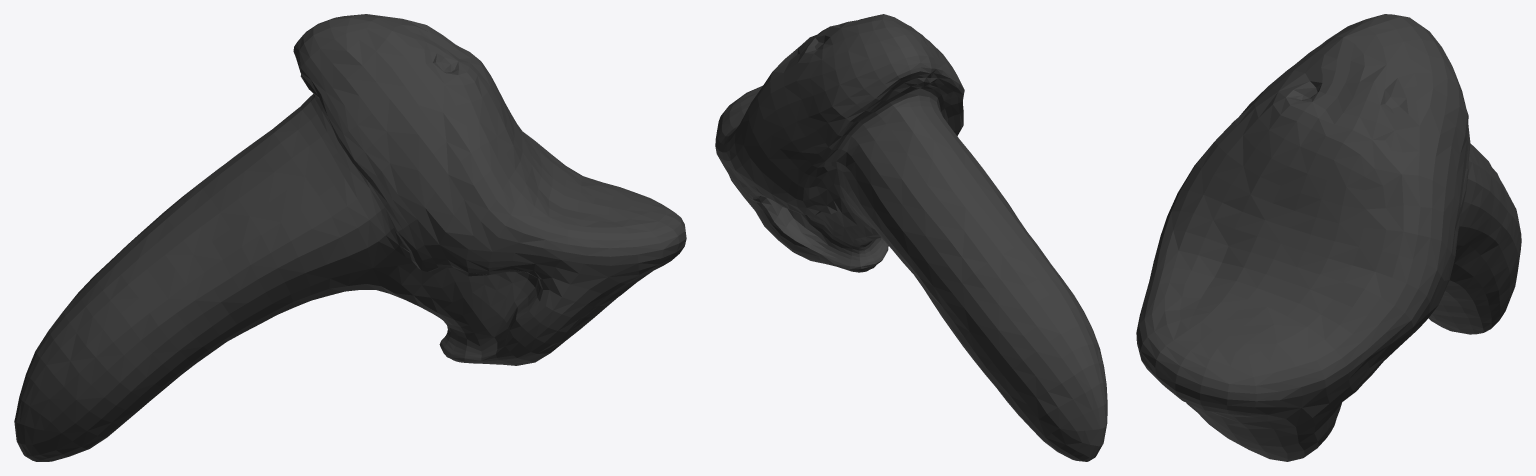
Rendered from distal_phalanx_II_L.glb.
3 renders of one model, left to right at view 1: azimuth 30°, elevation 25°; view 2: azimuth 150°, elevation 25°; view 3: azimuth 270°, elevation 25°, orthographic. The views are drawn at different scales.
Parts seen in each view (by area): view 1: distal_phalanx_II_L; view 2: distal_phalanx_II_L; view 3: distal_phalanx_II_L.
Boxes of the visible parts, x1,y1,x2,y2 form: distal_phalanx_II_L: (14,14,686,461); distal_phalanx_II_L: (715,14,1107,461); distal_phalanx_II_L: (1136,14,1521,461).
Bounding box in the file's own units: 0.0254 × 0.018 × 0.0139.
1 material, 1 textured.
